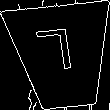L_S: (41, 30, 84, 83)
